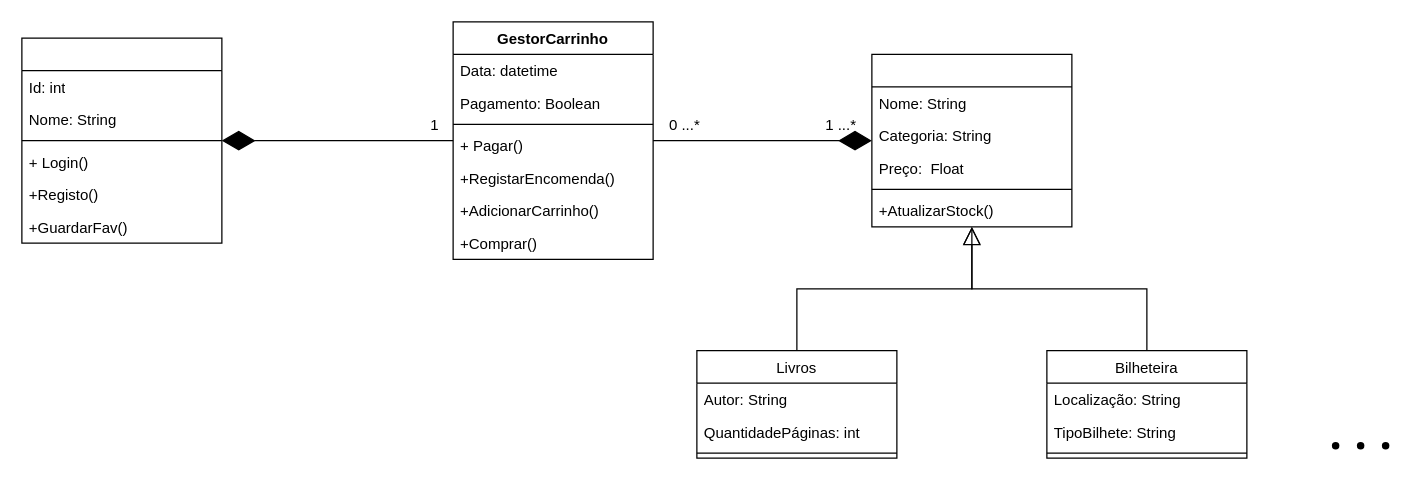
This 1420x480 diagram has some shape labels left out. The box of each missing label's shape, as (x1, y1, x2, y2) in pixels:
Produtos: (871, 53, 1072, 227)
User: (21, 37, 222, 243)
